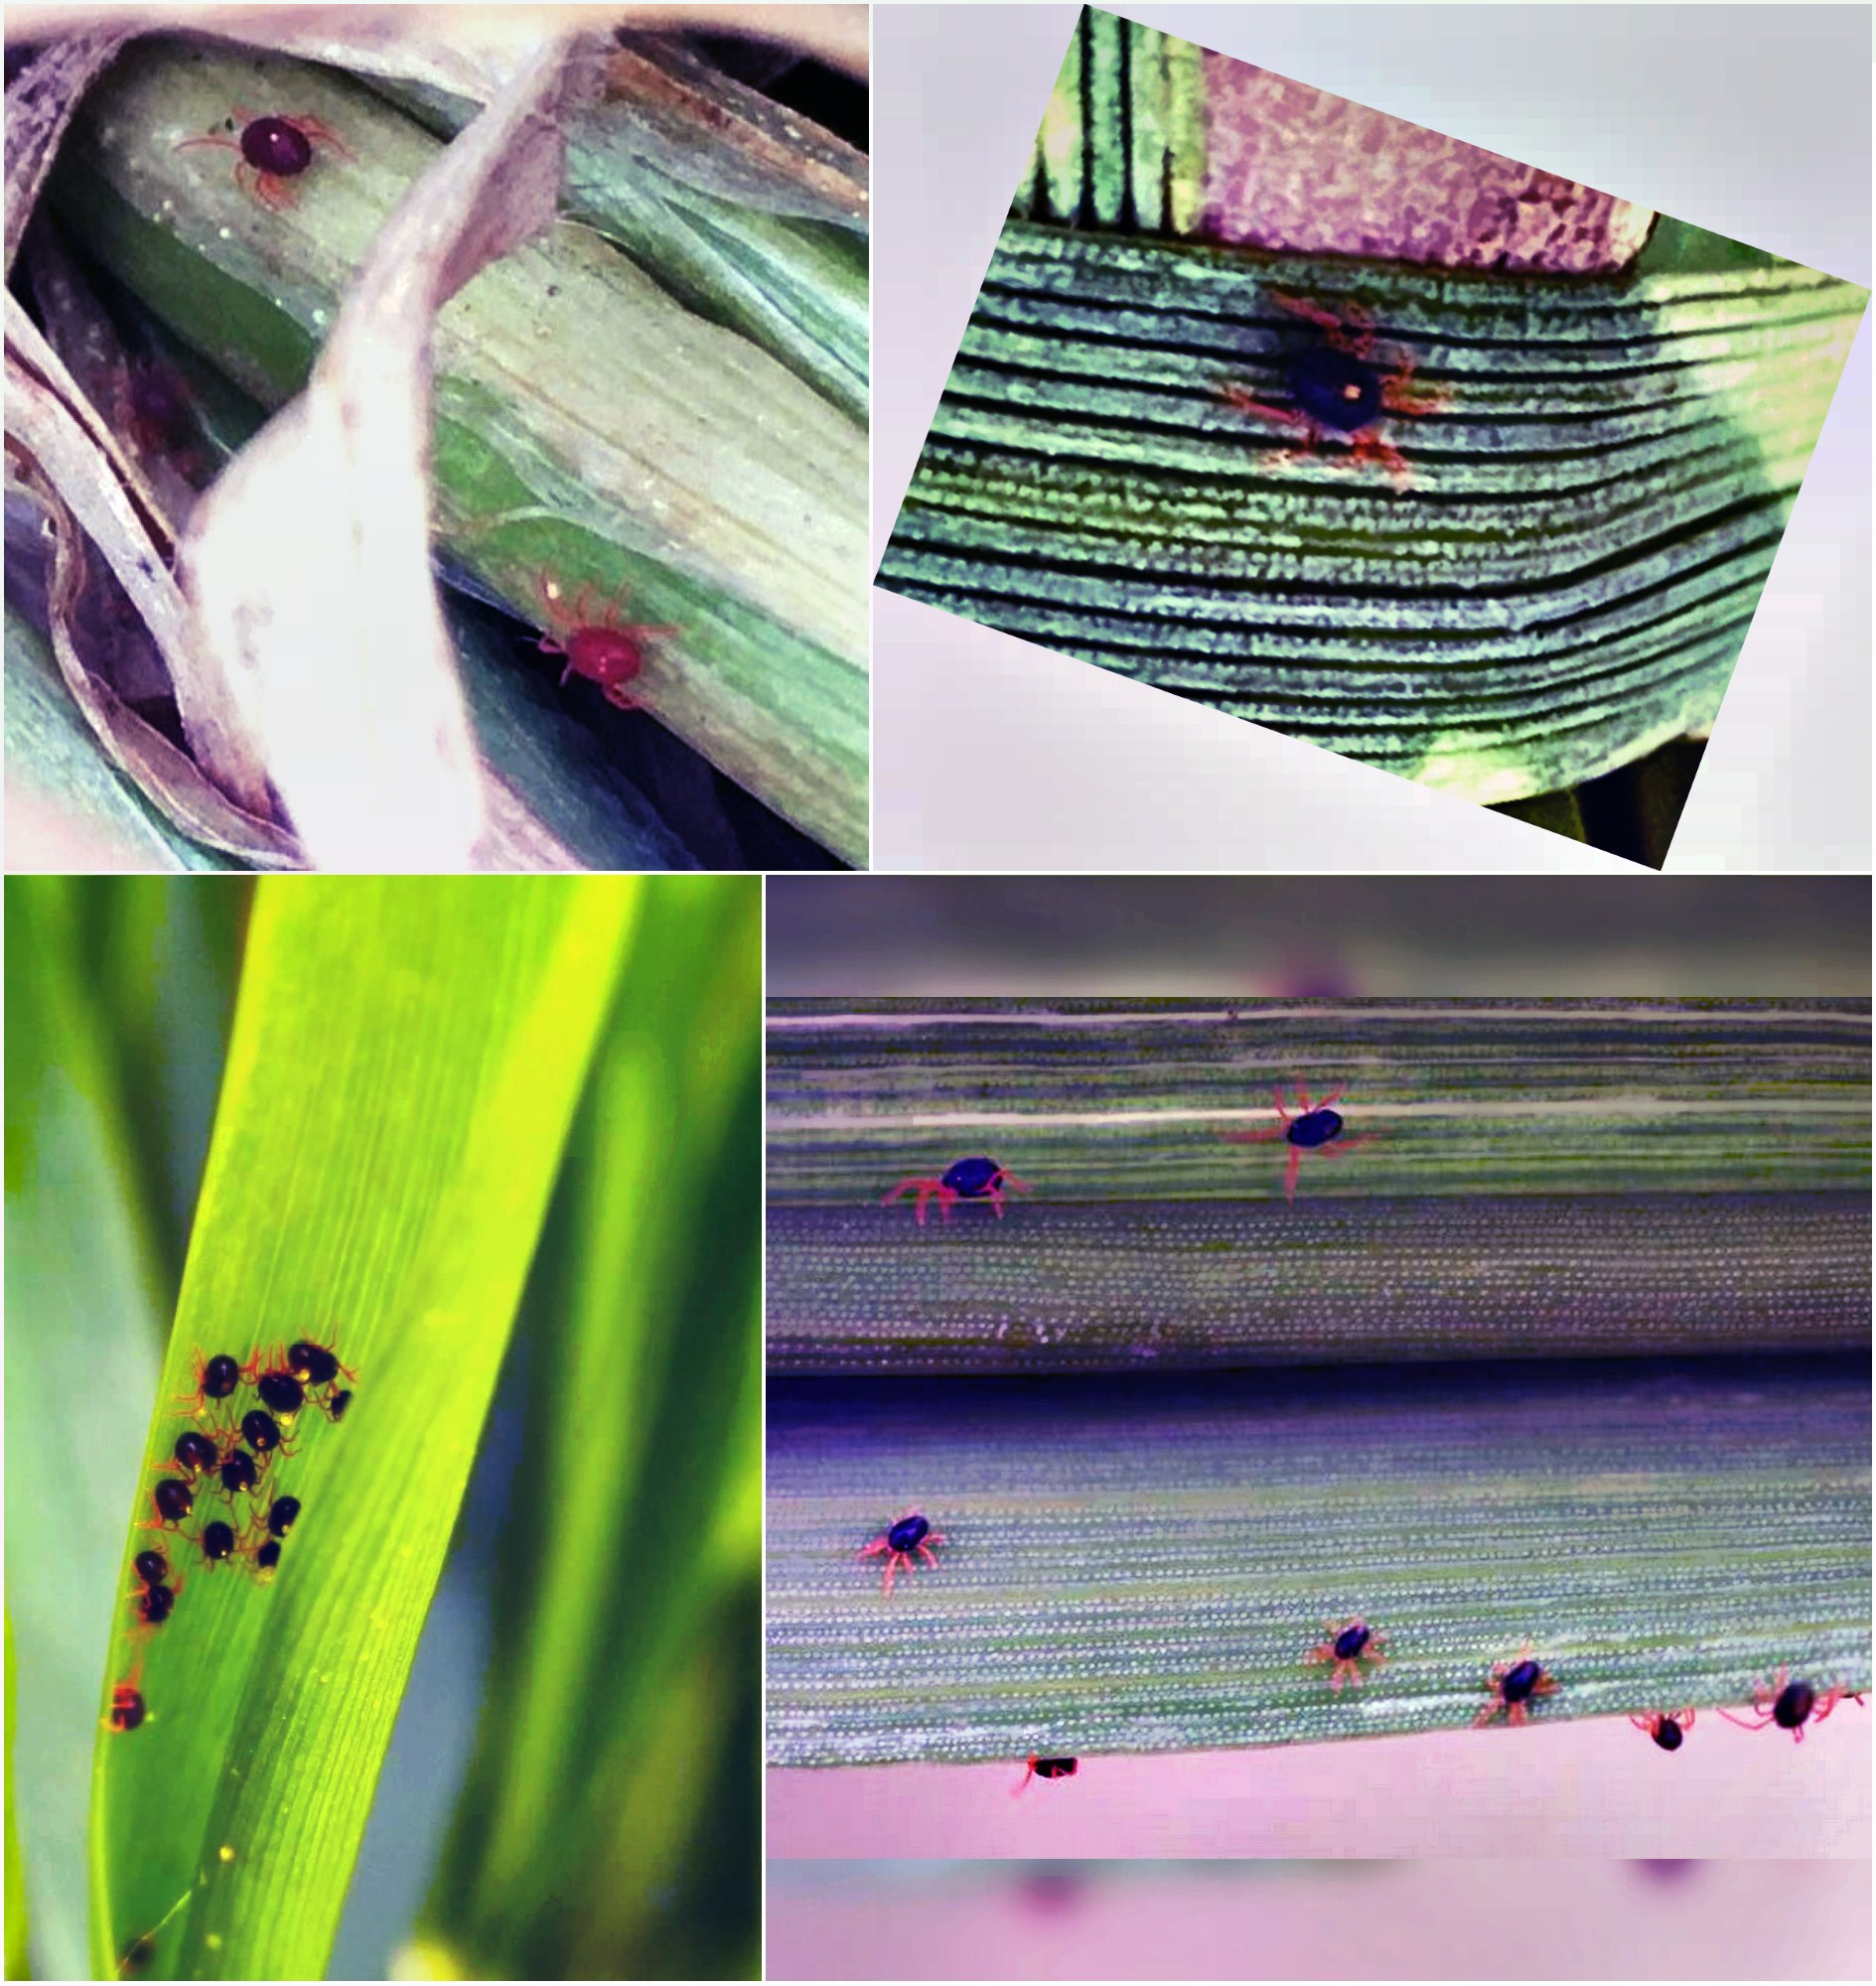Wheat Red Spider: (499, 539, 684, 742), (876, 1145, 1049, 1237)
